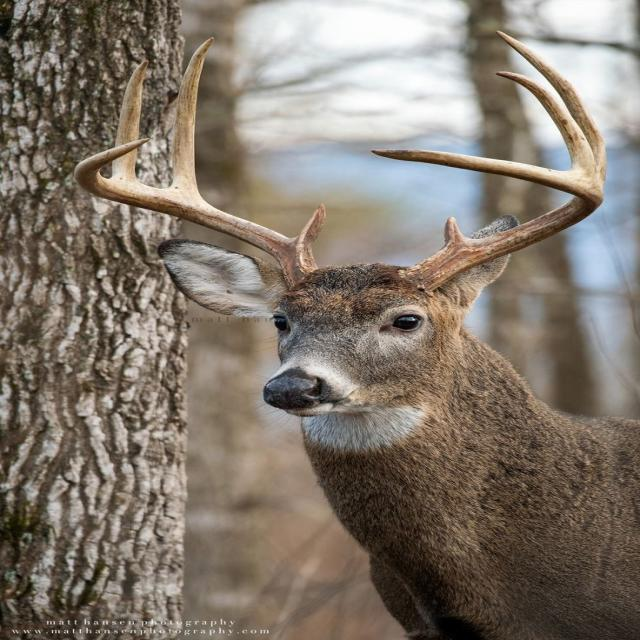L-F: (370, 149, 604, 293)
R-F: (75, 139, 318, 289), (298, 204, 326, 253)
